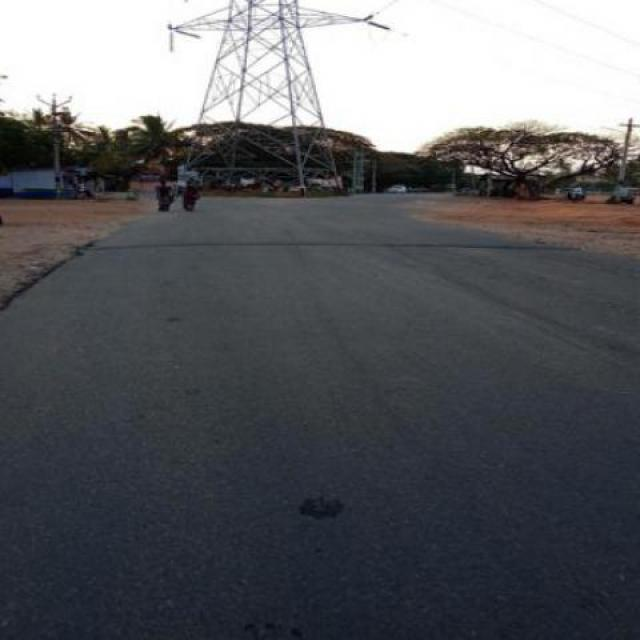Unmarked Bump: (77, 238, 580, 252)
